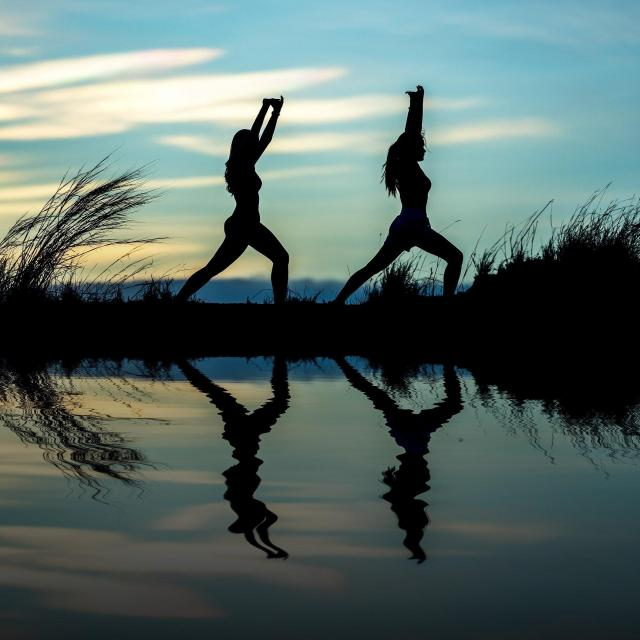person: (198, 72, 315, 328), (379, 74, 479, 320)
